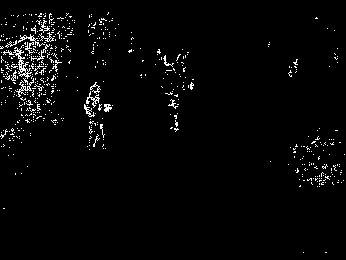person: (82, 82, 115, 150)
